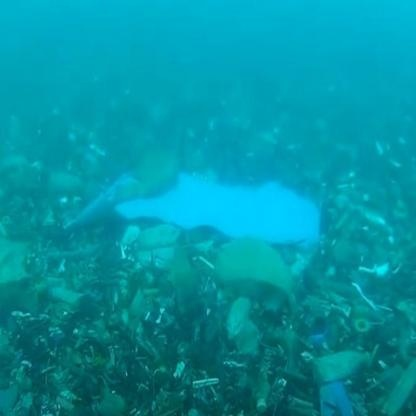plastic: (118, 168, 336, 282)
